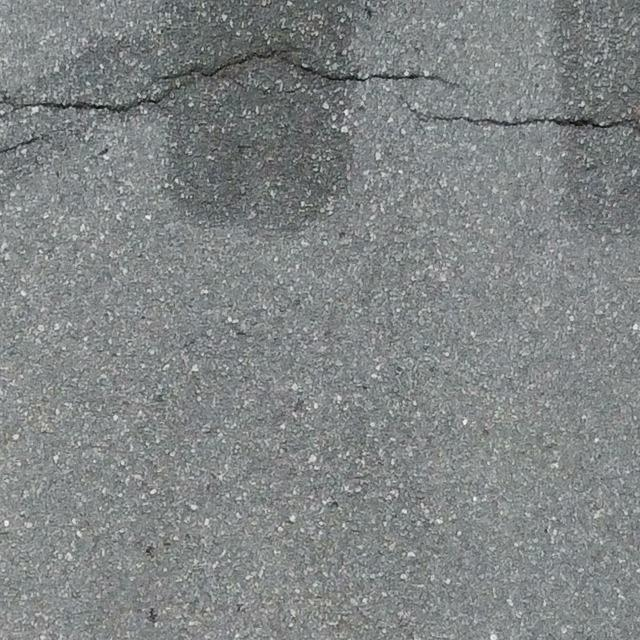TransverseCrack: (1, 52, 453, 113), (398, 92, 640, 129)
